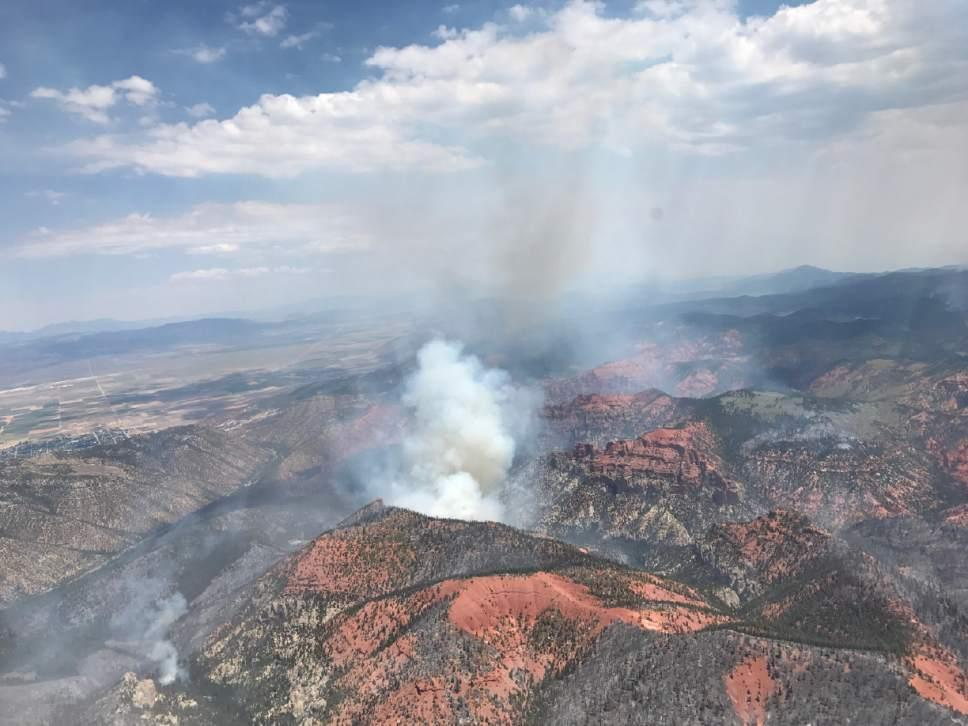Smoke: (456, 120, 616, 378), (338, 334, 538, 538), (108, 576, 180, 694)
